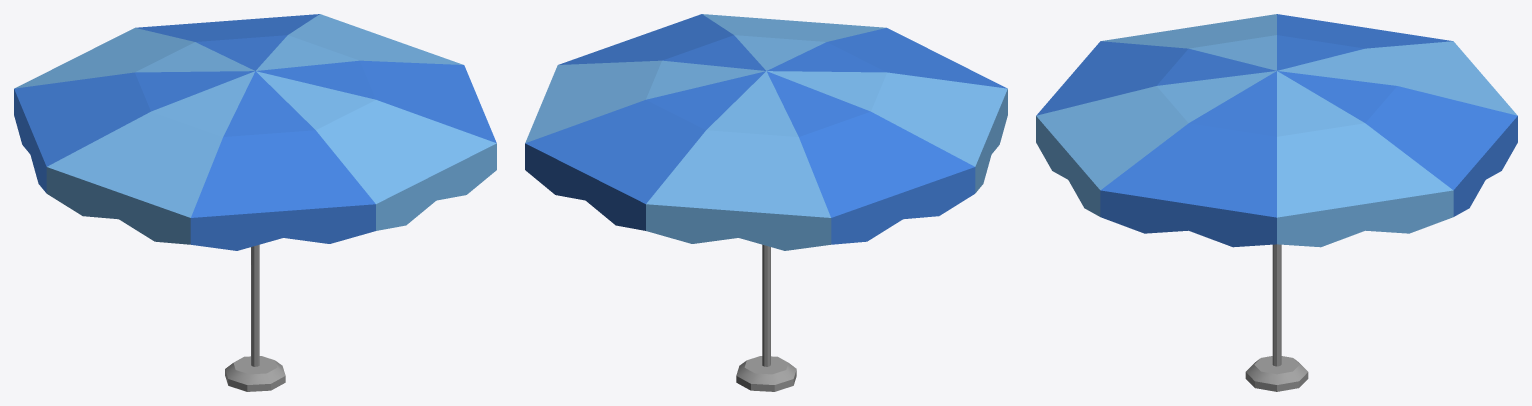
File: Parasol.fbx
3 renders of one model, left to right at view 1: azimuth 30°, elevation 25°; view 2: azimuth 150°, elevation 25°; view 3: azimuth 270°, elevation 25°, orthographic.
Parts seen in each view (by area): view 1: Parasol; view 2: Parasol; view 3: Parasol.
Part boxes in pixels (left/top/right/bottom): Parasol: left=14, top=14, right=496, bottom=391; Parasol: left=525, top=14, right=1007, bottom=391; Parasol: left=1036, top=14, right=1517, bottom=391.
Bounding box in the file's own units: 511 × 360 × 511.
